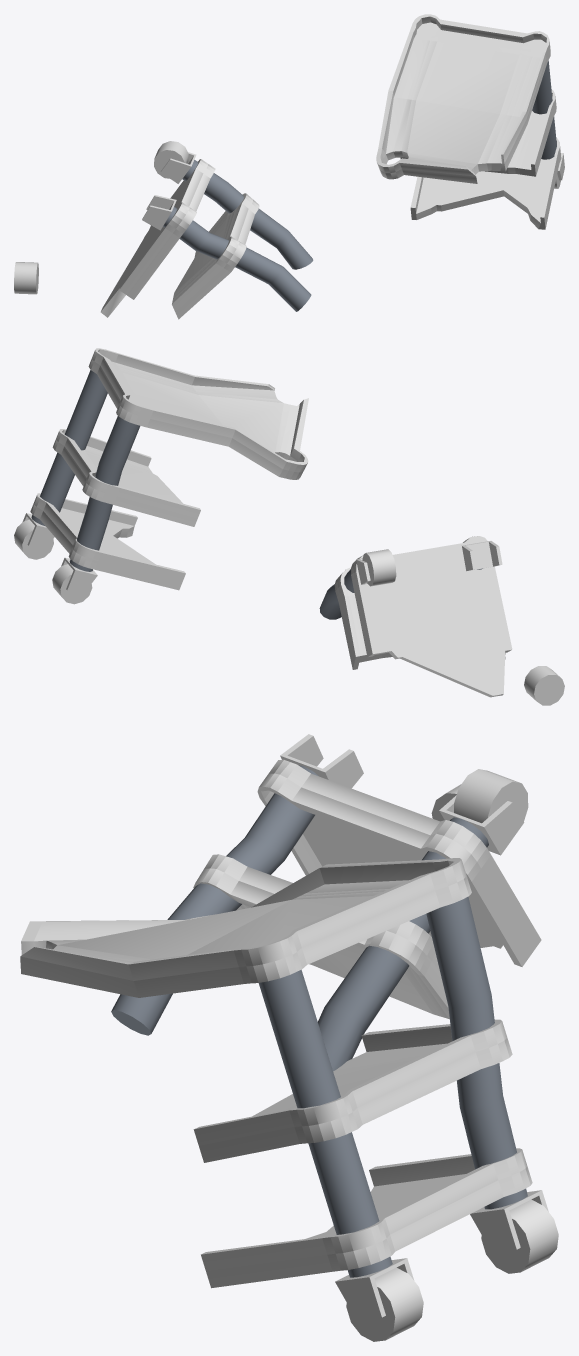
Rendered from SM_Chariot_cassee.FBX.
3 renders of one model, top to bottom at view 1: azimuth 30°, elevation 25°; view 2: azimuth 150°, elevation 25°; view 3: azimuth 270°, elevation 25°, orthographic. The views are drawn at different scales.
Visible parts, largest first — view 1: SM_Plateau03, Group020, SM_PLateau01, SM_Support02, SM_Support01, SM_Plateau02, SM_Support03, SM_Roue02, SM_Support_Roue02, SM_Roue01, SM_Support_Roue01; view 2: Group020, SM_Plateau03, SM_PLateau01, SM_Plateau02, SM_Support04, SM_Support03, SM_Roue02, SM_Roue01, SM_Support_Roue02, SM_Roue04, SM_Roue03, SM_Support01 (+2 smaller); view 3: SM_Plateau03, Group020, SM_Plateau02, SM_PLateau01, SM_Support03, SM_Support04, SM_Support02, SM_Support01, SM_Roue04, SM_Roue03, SM_Roue01, SM_Support_Roue02 (+3 smaller).
Part boxes in pixels (left/top/right/bottom): SM_Plateau03: left=376, top=14, right=550, bottom=183; Group020: left=100, top=159, right=259, bottom=319; SM_PLateau01: left=410, top=137, right=561, bottom=229; SM_Support02: left=163, top=206, right=311, bottom=311; SM_Support01: left=182, top=160, right=313, bottom=269; SM_Plateau02: left=400, top=89, right=556, bottom=176; SM_Support03: left=532, top=60, right=556, bottom=159; SM_Roue02: left=14, top=262, right=38, bottom=294; SM_Support_Roue02: left=142, top=195, right=176, bottom=230; SM_Roue01: left=154, top=141, right=188, bottom=178; SM_Support_Roue01: left=161, top=152, right=196, bottom=183; Group020: left=334, top=536, right=512, bottom=697; SM_Plateau03: left=88, top=348, right=308, bottom=479; SM_PLateau01: left=30, top=493, right=185, bottom=590; SM_Plateau02: left=52, top=429, right=200, bottom=526; SM_Support04: left=69, top=416, right=140, bottom=571; SM_Support03: left=31, top=370, right=107, bottom=526; SM_Roue02: left=524, top=666, right=564, bottom=705; SM_Roue01: left=362, top=549, right=396, bottom=586; SM_Support_Roue02: left=462, top=541, right=502, bottom=571; SM_Roue04: left=52, top=564, right=92, bottom=604; SM_Roue03: left=14, top=519, right=53, bottom=559; SM_Support01: left=319, top=569, right=354, bottom=619; SM_Plateau03: left=20, top=858, right=471, bottom=997; Group020: left=193, top=759, right=541, bottom=1018; SM_Plateau02: left=193, top=1019, right=512, bottom=1162; SM_PLateau01: left=201, top=1148, right=532, bottom=1288; SM_Support03: left=258, top=969, right=392, bottom=1277; SM_Support04: left=426, top=897, right=527, bottom=1209; SM_Support02: left=111, top=765, right=317, bottom=1035; SM_Support01: left=318, top=817, right=488, bottom=1071; SM_Roue04: left=481, top=1199, right=558, bottom=1273; SM_Roue03: left=346, top=1267, right=423, bottom=1341; SM_Roue01: left=454, top=769, right=528, bottom=823; SM_Support_Roue02: left=280, top=734, right=363, bottom=788.
Size of the model in its own units: 226 by 84.64 by 98.88.
